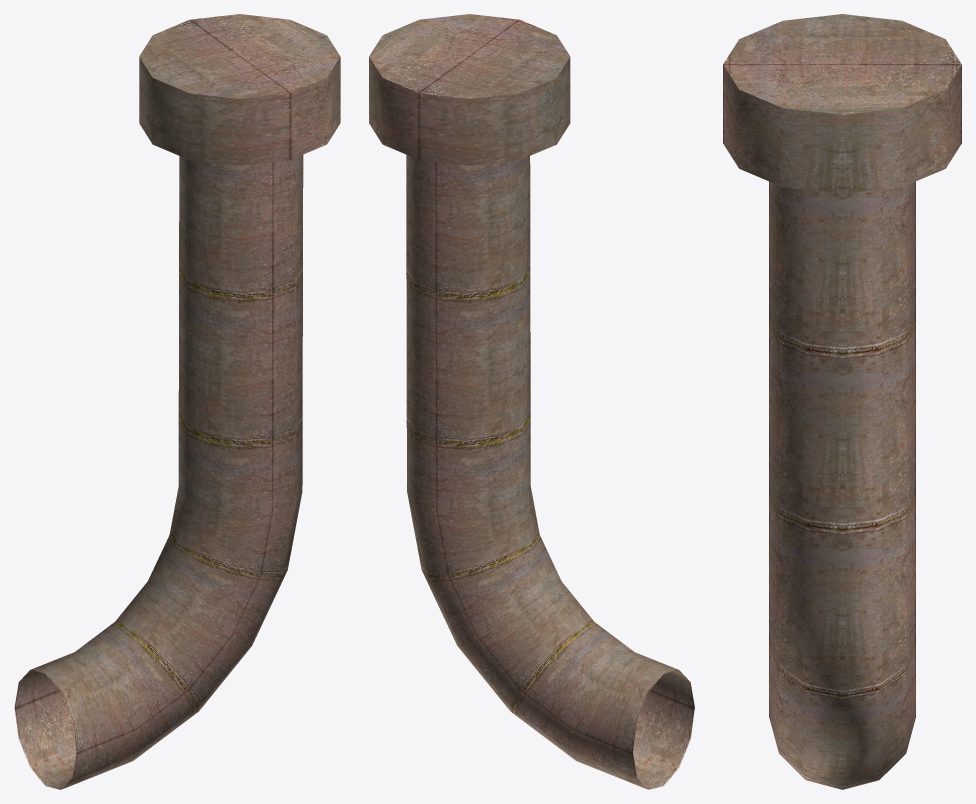
Rendered from OVENT01.glb.
3 views of the same model, side by side, from view 1: azimuth 30°, elevation 25°; view 2: azimuth 150°, elevation 25°; view 3: azimuth 270°, elevation 25° (orthographic). The views are drawn at different scales.
Visible parts, largest first — view 1: _OVENT01; view 2: _OVENT01; view 3: _OVENT01.
Part boxes in pixels (x1=…): _OVENT01: x1=14, y1=14, x2=340, y2=789; _OVENT01: x1=369, y1=14, x2=694, y2=789; _OVENT01: x1=723, y1=14, x2=961, y2=789.
Size of the model in its own units: 5.94 by 13.75 by 3.68.
Materials: 1 (1 with a texture image).
